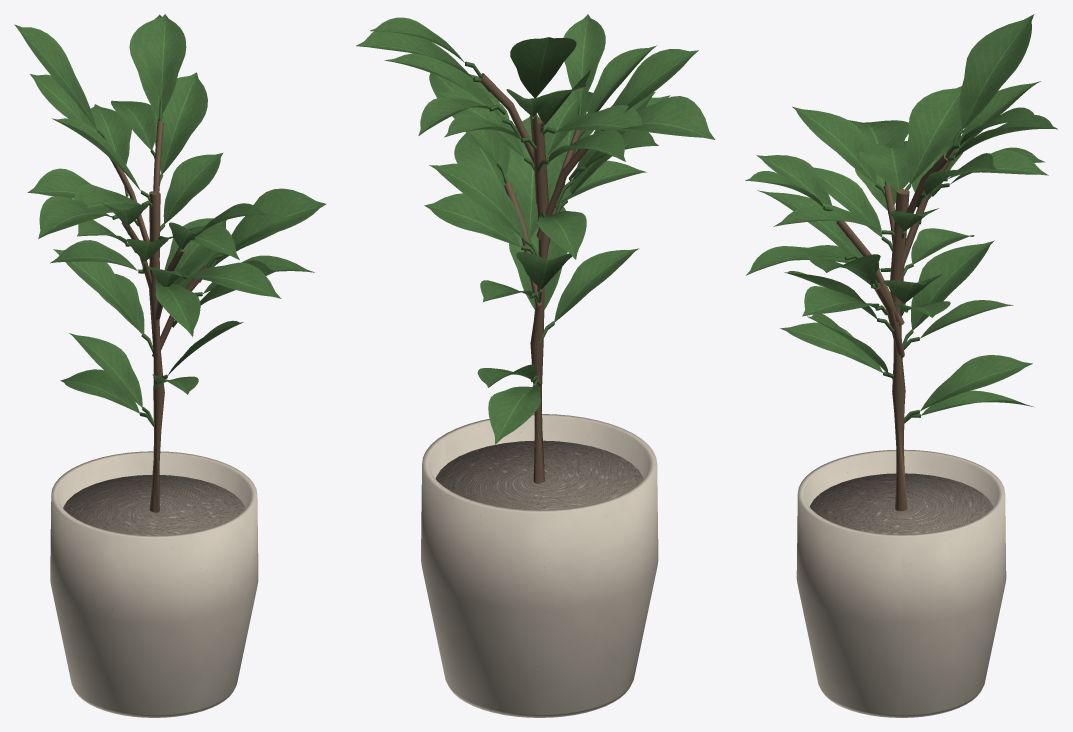
The picture shows the model from 3 angles, left to right: view 1: azimuth 30°, elevation 25°; view 2: azimuth 150°, elevation 25°; view 3: azimuth 270°, elevation 25°; orthographic projection. The views are drawn at different scales.
Visible parts, largest first — view 1: pot, soil, leaf_30, trunk, leaf_33, leaf_29, leaf_17, leaf_10, leaf_1, leaf_4, leaf_19, leaf_25 (+18 smaller); view 2: pot, soil, leaf_6, trunk, leaf_29, leaf_25, leaf_14, leaf_21, leaf_24, leaf_7, leaf_2, leaf_0 (+24 smaller); view 3: pot, soil, leaf_29, leaf_13, trunk, leaf_4, leaf_24, leaf_1, leaf_22, leaf_2, leaf_20, leaf_12 (+21 smaller).
Part boxes in pixels (box(x1,y1,x2,y2)): pot: box(50, 451, 258, 717); soil: box(63, 474, 245, 535); leaf_30: box(154, 72, 207, 173); trunk: box(149, 191, 164, 512); leaf_33: box(141, 14, 185, 100); leaf_29: box(14, 24, 97, 129); leaf_17: box(223, 188, 326, 254); leaf_10: box(163, 152, 223, 223); leaf_1: box(69, 333, 142, 407); leaf_4: box(53, 249, 141, 333); leaf_19: box(188, 262, 281, 298); leaf_25: box(38, 196, 113, 238); pot: box(421, 414, 658, 717); soil: box(435, 440, 643, 510); leaf_6: box(429, 163, 524, 239); trunk: box(530, 117, 549, 483); leaf_29: box(510, 37, 576, 97); leaf_25: box(621, 96, 715, 139); leaf_14: box(506, 114, 562, 238); leaf_21: box(563, 14, 605, 104); leaf_24: box(600, 49, 698, 130); leaf_7: box(424, 193, 520, 247); leaf_2: box(554, 248, 639, 322); leaf_0: box(488, 386, 540, 444); pot: box(796, 449, 1006, 717); soil: box(810, 473, 992, 534); leaf_29: box(959, 14, 1034, 128); leaf_13: box(906, 86, 962, 184); trunk: box(890, 189, 909, 511); leaf_4: box(911, 240, 994, 330); leaf_24: box(792, 106, 876, 184); leaf_1: box(920, 355, 1032, 411); leaf_22: box(813, 167, 882, 237); leaf_2: box(780, 322, 882, 372); leaf_20: box(756, 155, 831, 204); leaf_12: box(859, 141, 908, 189).
Size of the model in its own units: 0.45 by 1 by 0.45.
Materials: 4 (4 with a texture image).
